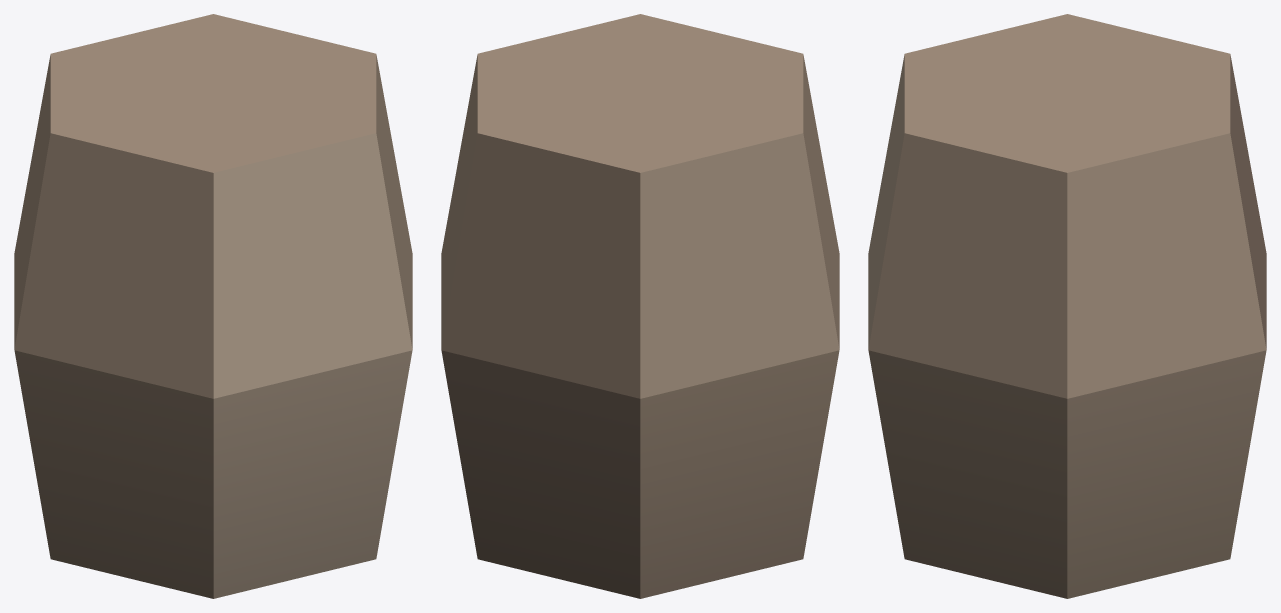
Rendered from barrel.lod2.glb.
The picture shows the model from 3 angles, left to right: view 1: azimuth 30°, elevation 25°; view 2: azimuth 150°, elevation 25°; view 3: azimuth 270°, elevation 25°; orthographic projection.
Bounding box in the file's own units: 0.88 × 0.9 × 0.7622.
